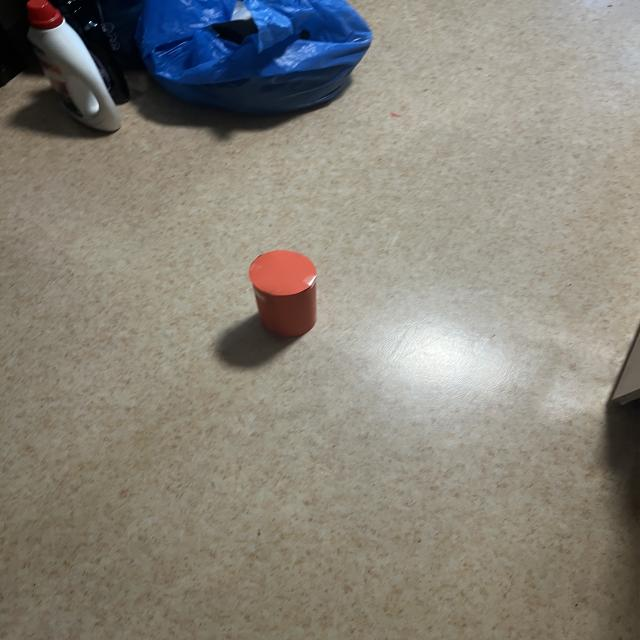przeszkoda: (249, 250, 317, 337)
